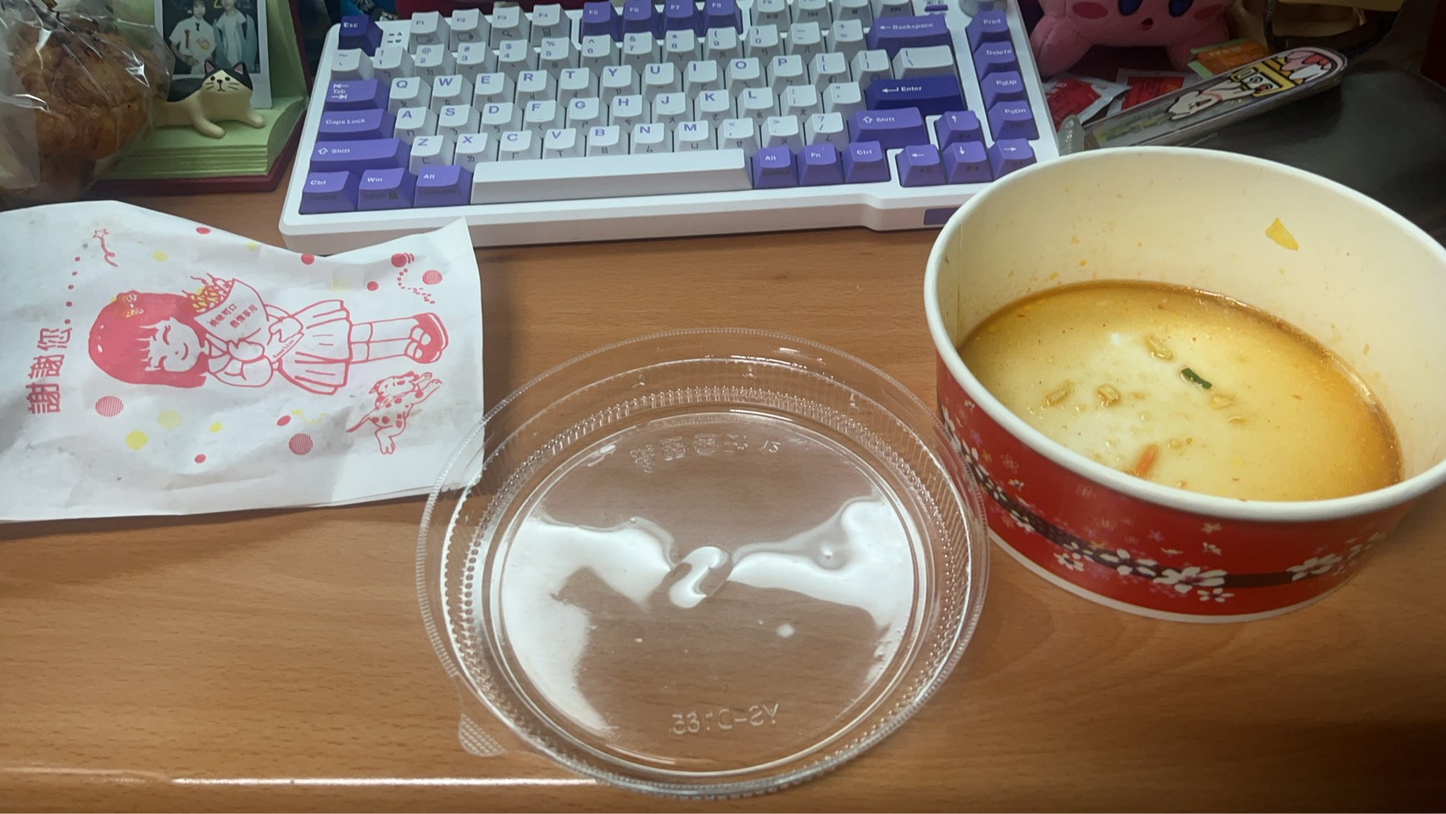paper: (846, 151, 1446, 634), (0, 190, 493, 551)
plastic: (402, 324, 1017, 814)
